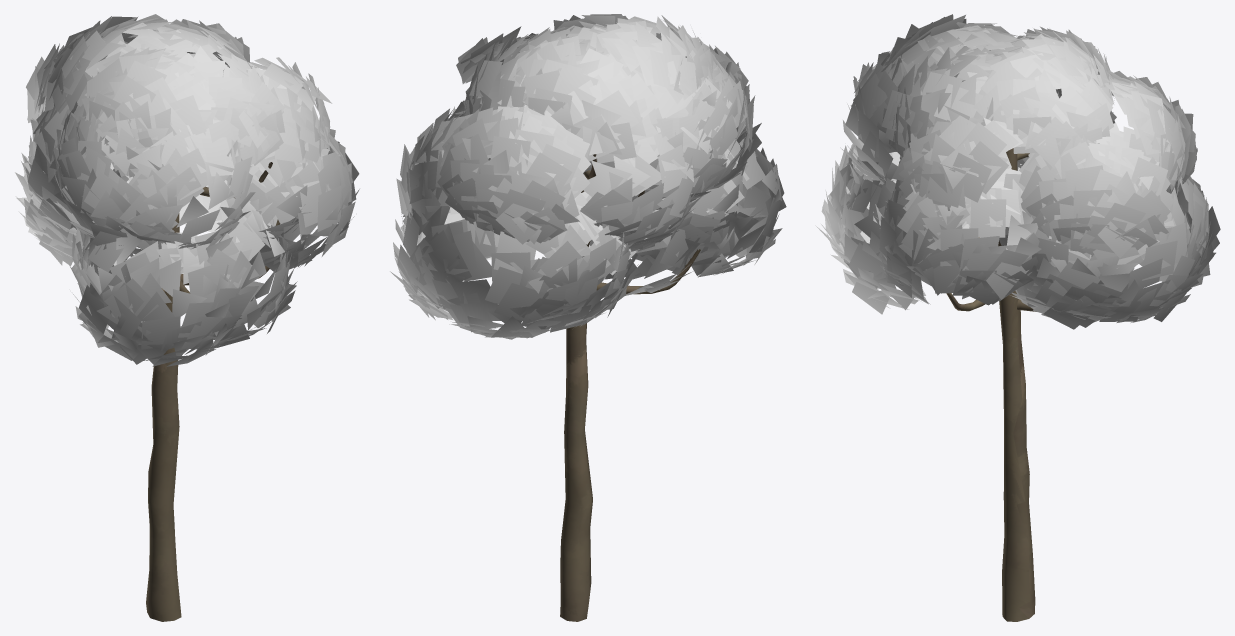
Rendered from Standar Tree Tall_LOD_1.fbx.
3 renders of one model, left to right at view 1: azimuth 30°, elevation 25°; view 2: azimuth 150°, elevation 25°; view 3: azimuth 270°, elevation 25°, orthographic. The views are drawn at different scales.
Parts seen in each view (by area): view 1: Top_Tree_Tall_LOD_2, Standar_Trunk_Tall_LOD_2; view 2: Top_Tree_Tall_LOD_2, Standar_Trunk_Tall_LOD_2; view 3: Top_Tree_Tall_LOD_2, Standar_Trunk_Tall_LOD_2.
Boxes of the visible parts, <box> form: Top_Tree_Tall_LOD_2: <box>15,14,359,366</box>; Standar_Trunk_Tall_LOD_2: <box>146,162,280,621</box>; Top_Tree_Tall_LOD_2: <box>390,14,786,339</box>; Standar_Trunk_Tall_LOD_2: <box>560,154,700,621</box>; Top_Tree_Tall_LOD_2: <box>815,14,1220,329</box>; Standar_Trunk_Tall_LOD_2: <box>898,148,1035,621</box>.
Bounding box in the file's own units: 1584 × 3028 × 1933.
